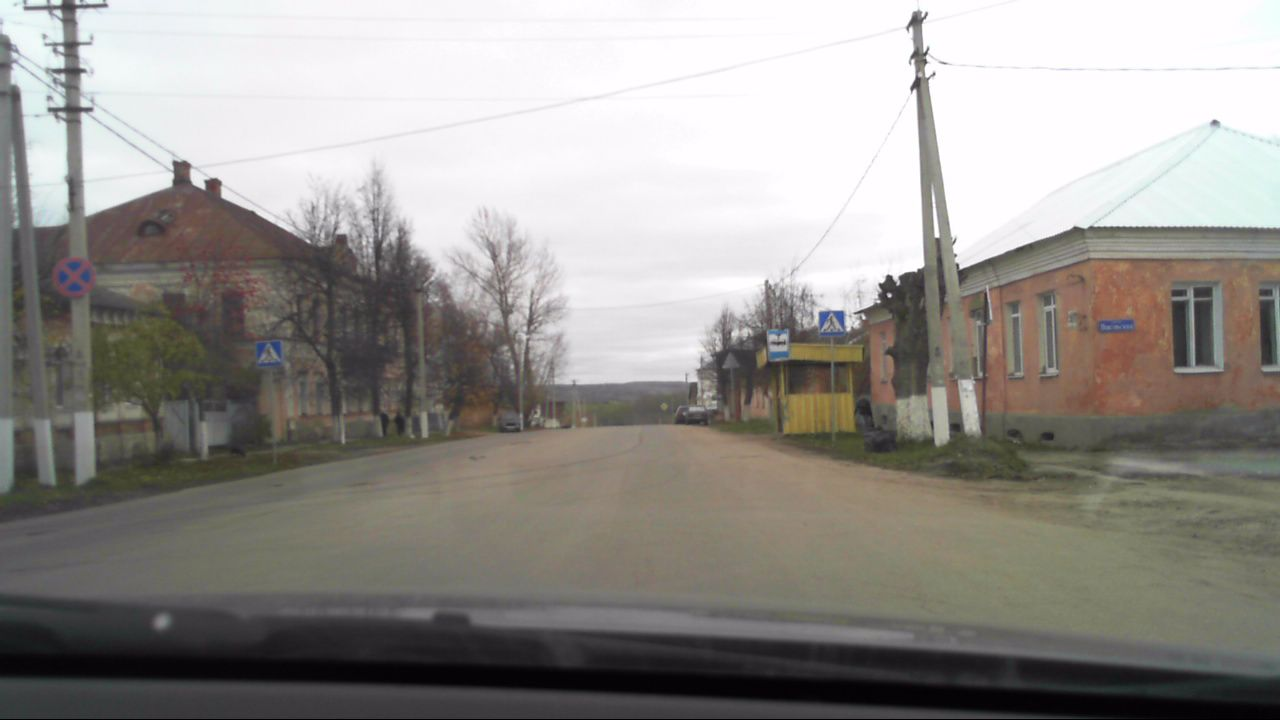No Parking: (50, 253, 93, 299)
